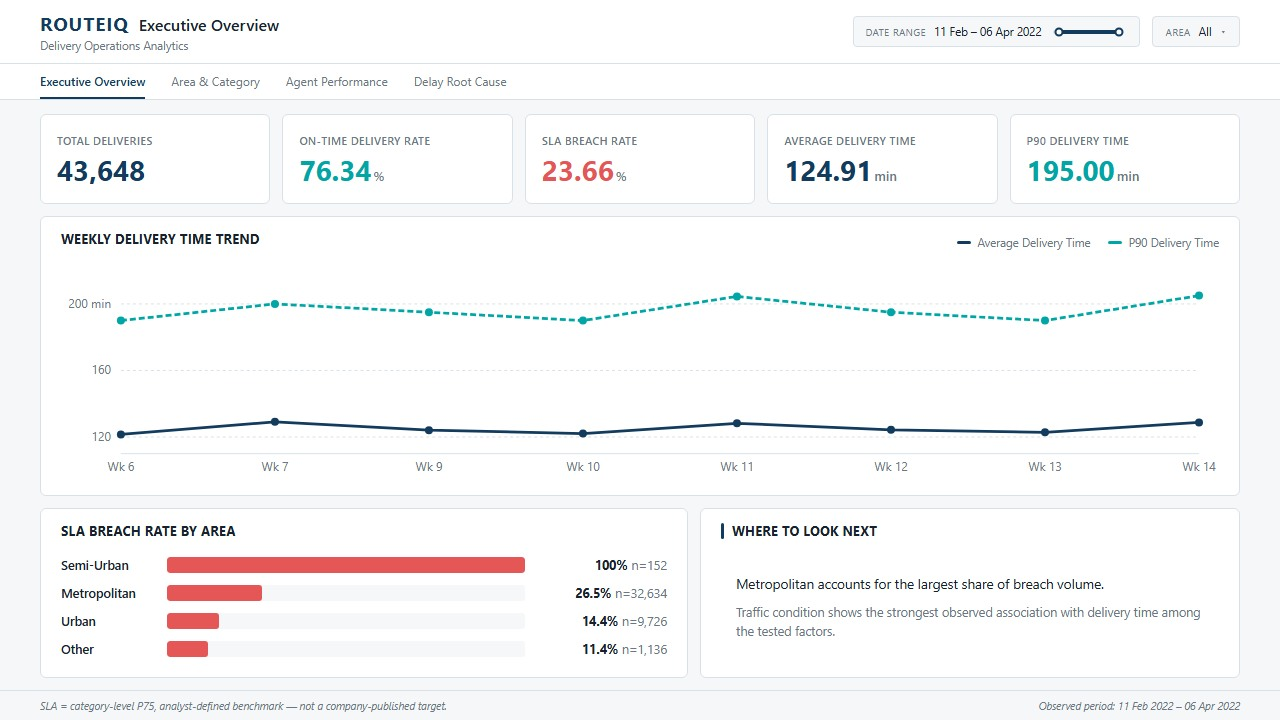

The dashboard page shown, as its layout file describes it:
{"tool":"powerbi","page":{"name":" Executive Overview","canvas":[1280,720],"ordinal":0},"visuals":[{"type":"cardVisual","title":"\tTOTAL DELIVERIES","fields":{"Data":["FactDelivery.Total Deliveries"]},"box":[48.8,112.8,196.5,111.6],"z":0},{"type":"cardVisual","title":"ON-TIME DELIVERY RATE","fields":{"Data":["FactDelivery.On-Time Delivery Rate %"]},"box":[257,112.8,218.6,111.6],"z":1000},{"type":"cardVisual","title":"SLA BREACH RATE","fields":{"Data":["FactDelivery.SLA Breach Rate %"]},"box":[486,112.8,193,111.6],"z":2000},{"type":"cardVisual","title":"AVERAGE DELIVERY TIME","fields":{"Data":["FactDelivery.Average Delivery Time (mins)"]},"box":[698.8,112.8,212.8,111.6],"z":3000},{"type":"lineChart","title":"   WEEKLY DELIVERY TIME TREND","fields":{"Category":["DimDate.week_number"],"Y":["FactDelivery.Average Delivery Time (mins)","FactDelivery.P90 Delivery Time (mins)"]},"box":[32.6,246.5,1202.3,227.9],"z":4000},{"type":"slicer","fields":{"Values":["DimDate.full_date"]},"box":[924.4,14,326.7,98.8],"z":5000},{"type":"textbox","box":[100,562.8,493,96.5],"z":6000},{"type":"clusteredBarChart","title":"   SLA BREACH RATE BY AREA","fields":{"Category":["DimArea.area_name"],"Y":["FactDelivery.SLA Breach Rate %"]},"box":[38.4,474.4,1190.7,175.6],"z":7000},{"type":"slicer","title":"AREA","fields":{"Values":["DimArea.area_name"]},"box":[924.4,134.9,326.7,67.4],"z":8000},{"type":"textbox","box":[48.8,29.1,301.2,60.5],"z":9000},{"type":"textbox","title":" SLA = category-level P75, analyst-defined benchmark — not a company-published target.","box":[38.4,667.4,623.3,39.5],"z":10000},{"type":"textbox","box":[616.3,650,634.9,69.8],"z":11000}]}

Visuals, with their boxes in screenshot pixels (x1, y1, x2, y2), scaled from the page's 1280x720 canvas onto the 1280x720 screenshot:
"	TOTAL DELIVERIES" cardVisual: [left=49, top=113, right=245, bottom=224]
"ON-TIME DELIVERY RATE" cardVisual: [left=257, top=113, right=476, bottom=224]
"SLA BREACH RATE" cardVisual: [left=486, top=113, right=679, bottom=224]
"AVERAGE DELIVERY TIME" cardVisual: [left=699, top=113, right=912, bottom=224]
"   WEEKLY DELIVERY TIME TREND" lineChart: [left=33, top=246, right=1235, bottom=474]
slicer - DimDate.full_date: [left=924, top=14, right=1251, bottom=113]
textbox: [left=100, top=563, right=593, bottom=659]
"   SLA BREACH RATE BY AREA" clusteredBarChart: [left=38, top=474, right=1229, bottom=650]
"AREA" slicer: [left=924, top=135, right=1251, bottom=202]
textbox: [left=49, top=29, right=350, bottom=90]
" SLA = category-level P75, analyst-defined benchmark — not a company-published target." textbox: [left=38, top=667, right=662, bottom=707]
textbox: [left=616, top=650, right=1251, bottom=719]
